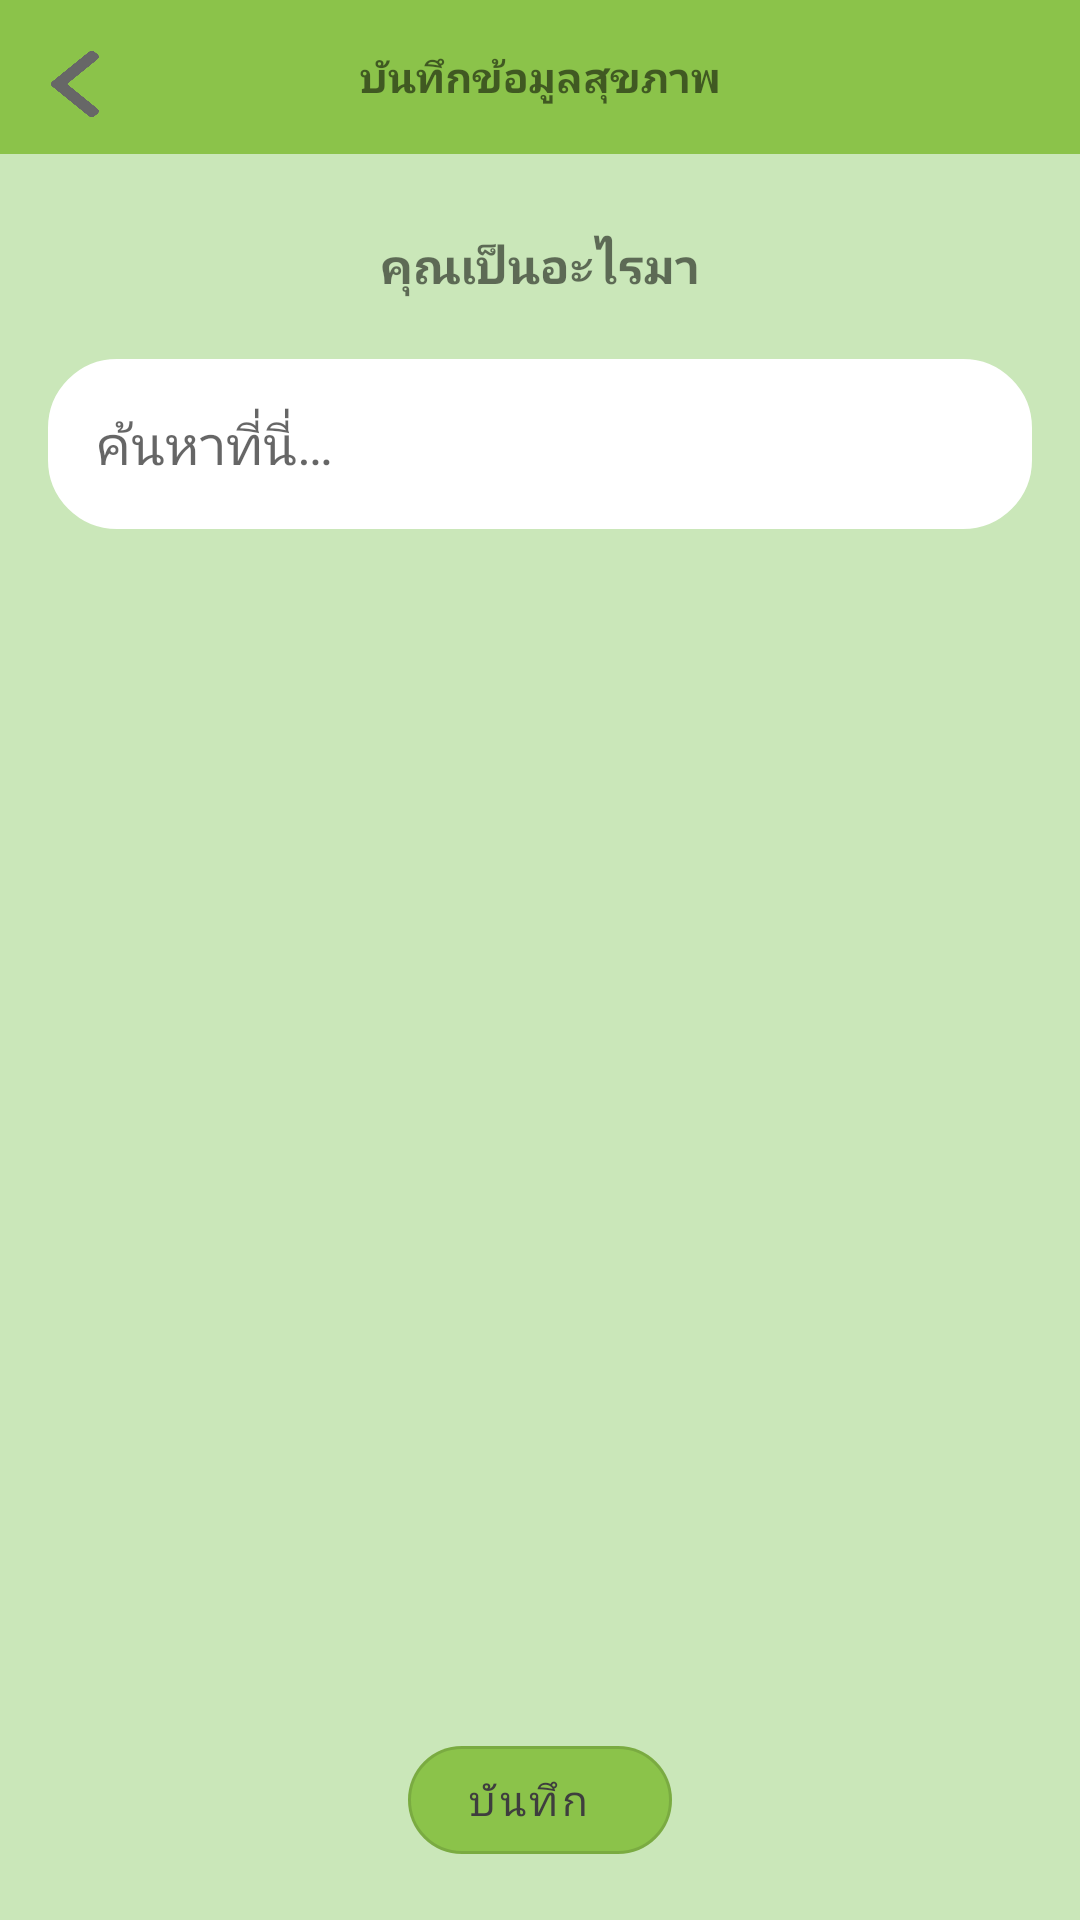

Screen size 1080*1920. Icon name, then its box in pixels as {"left": x1, "top": y1, "right": x2, "bottom": y2}:
left arrow: {"left": 51, "top": 51, "right": 99, "bottom": 117}
